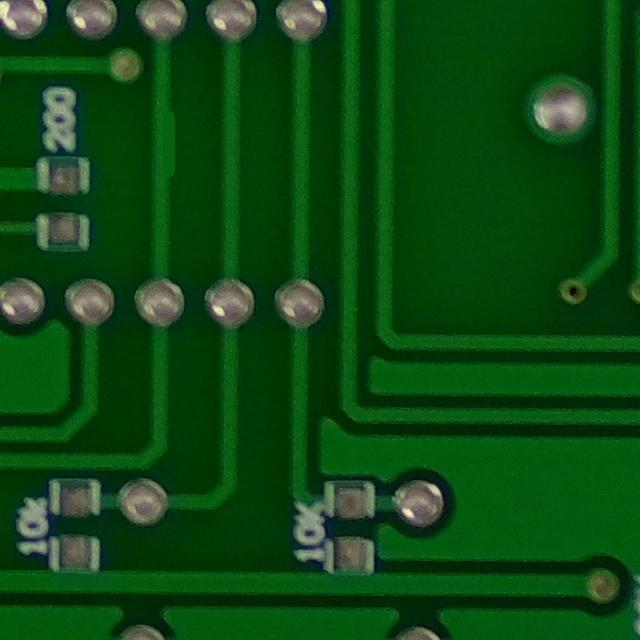spur: (139, 106, 187, 184)
